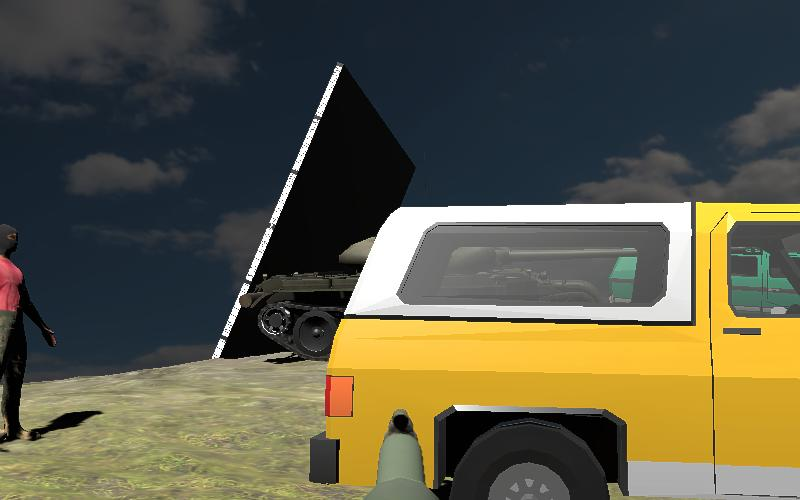Human: (0, 220, 56, 446)
car: (270, 197, 800, 496)
